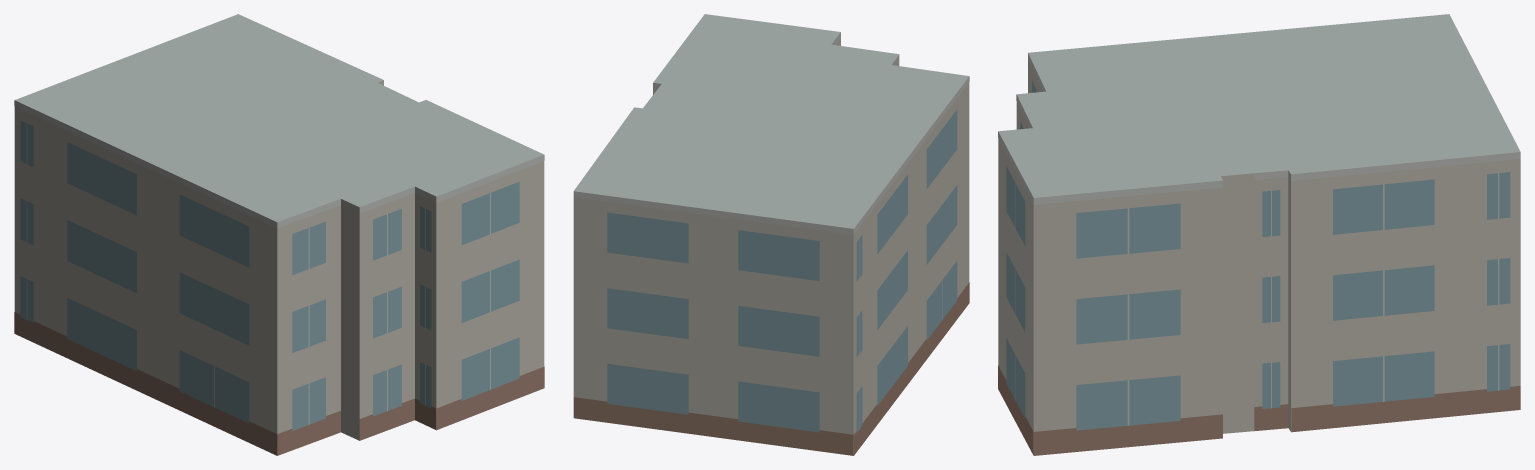
File: survey-upis-33043917.glb
The picture shows the model from 3 angles, left to right: view 1: azimuth 30°, elevation 25°; view 2: azimuth 150°, elevation 25°; view 3: azimuth 270°, elevation 25°; orthographic projection. The views are drawn at different scales.
Parts seen in each view (by area): view 1: survey-upis-33043917.tmp; view 2: survey-upis-33043917.tmp; view 3: survey-upis-33043917.tmp.
Part boxes in pixels (x1=…): survey-upis-33043917.tmp: x1=14, y1=14, x2=544, y2=455; survey-upis-33043917.tmp: x1=573, y1=14, x2=969, y2=455; survey-upis-33043917.tmp: x1=998, y1=14, x2=1520, y2=455.
Size of the model in its own units: 14.09 by 9.2 by 16.91.
